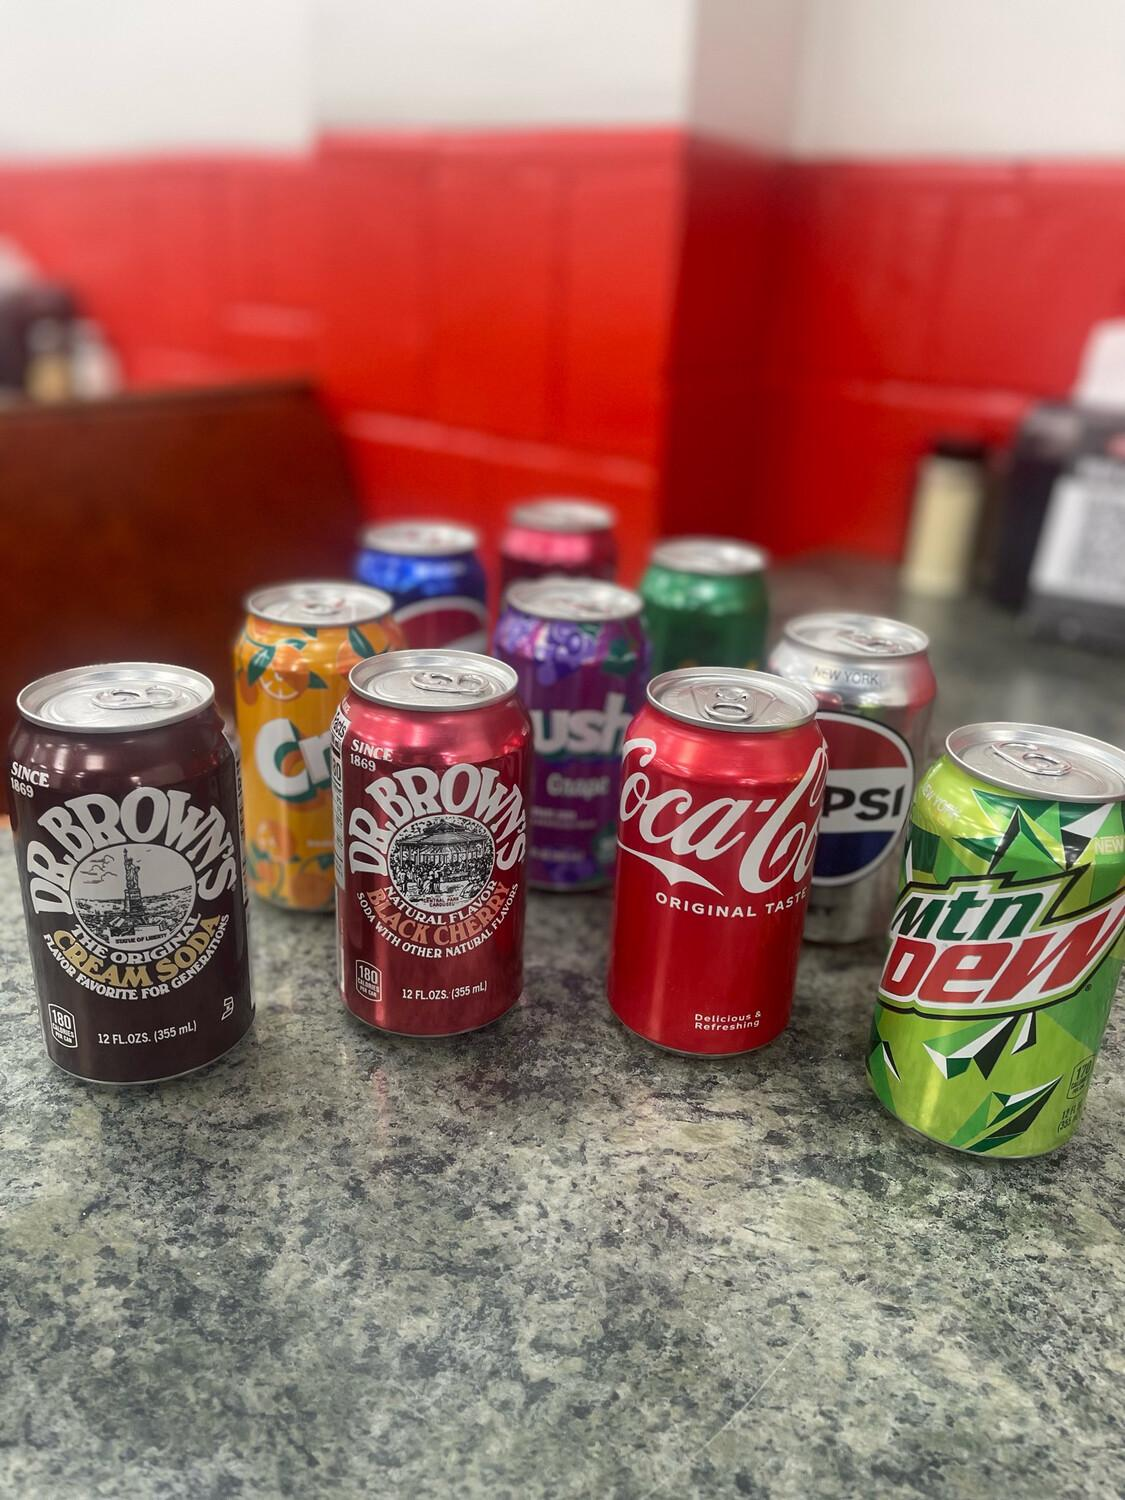can: (867, 723, 1124, 1157), (9, 663, 253, 1082), (607, 667, 827, 1055), (332, 650, 532, 1035), (768, 609, 935, 946), (233, 579, 402, 909), (494, 576, 651, 891), (638, 536, 769, 677), (356, 517, 490, 651), (494, 497, 622, 617)
